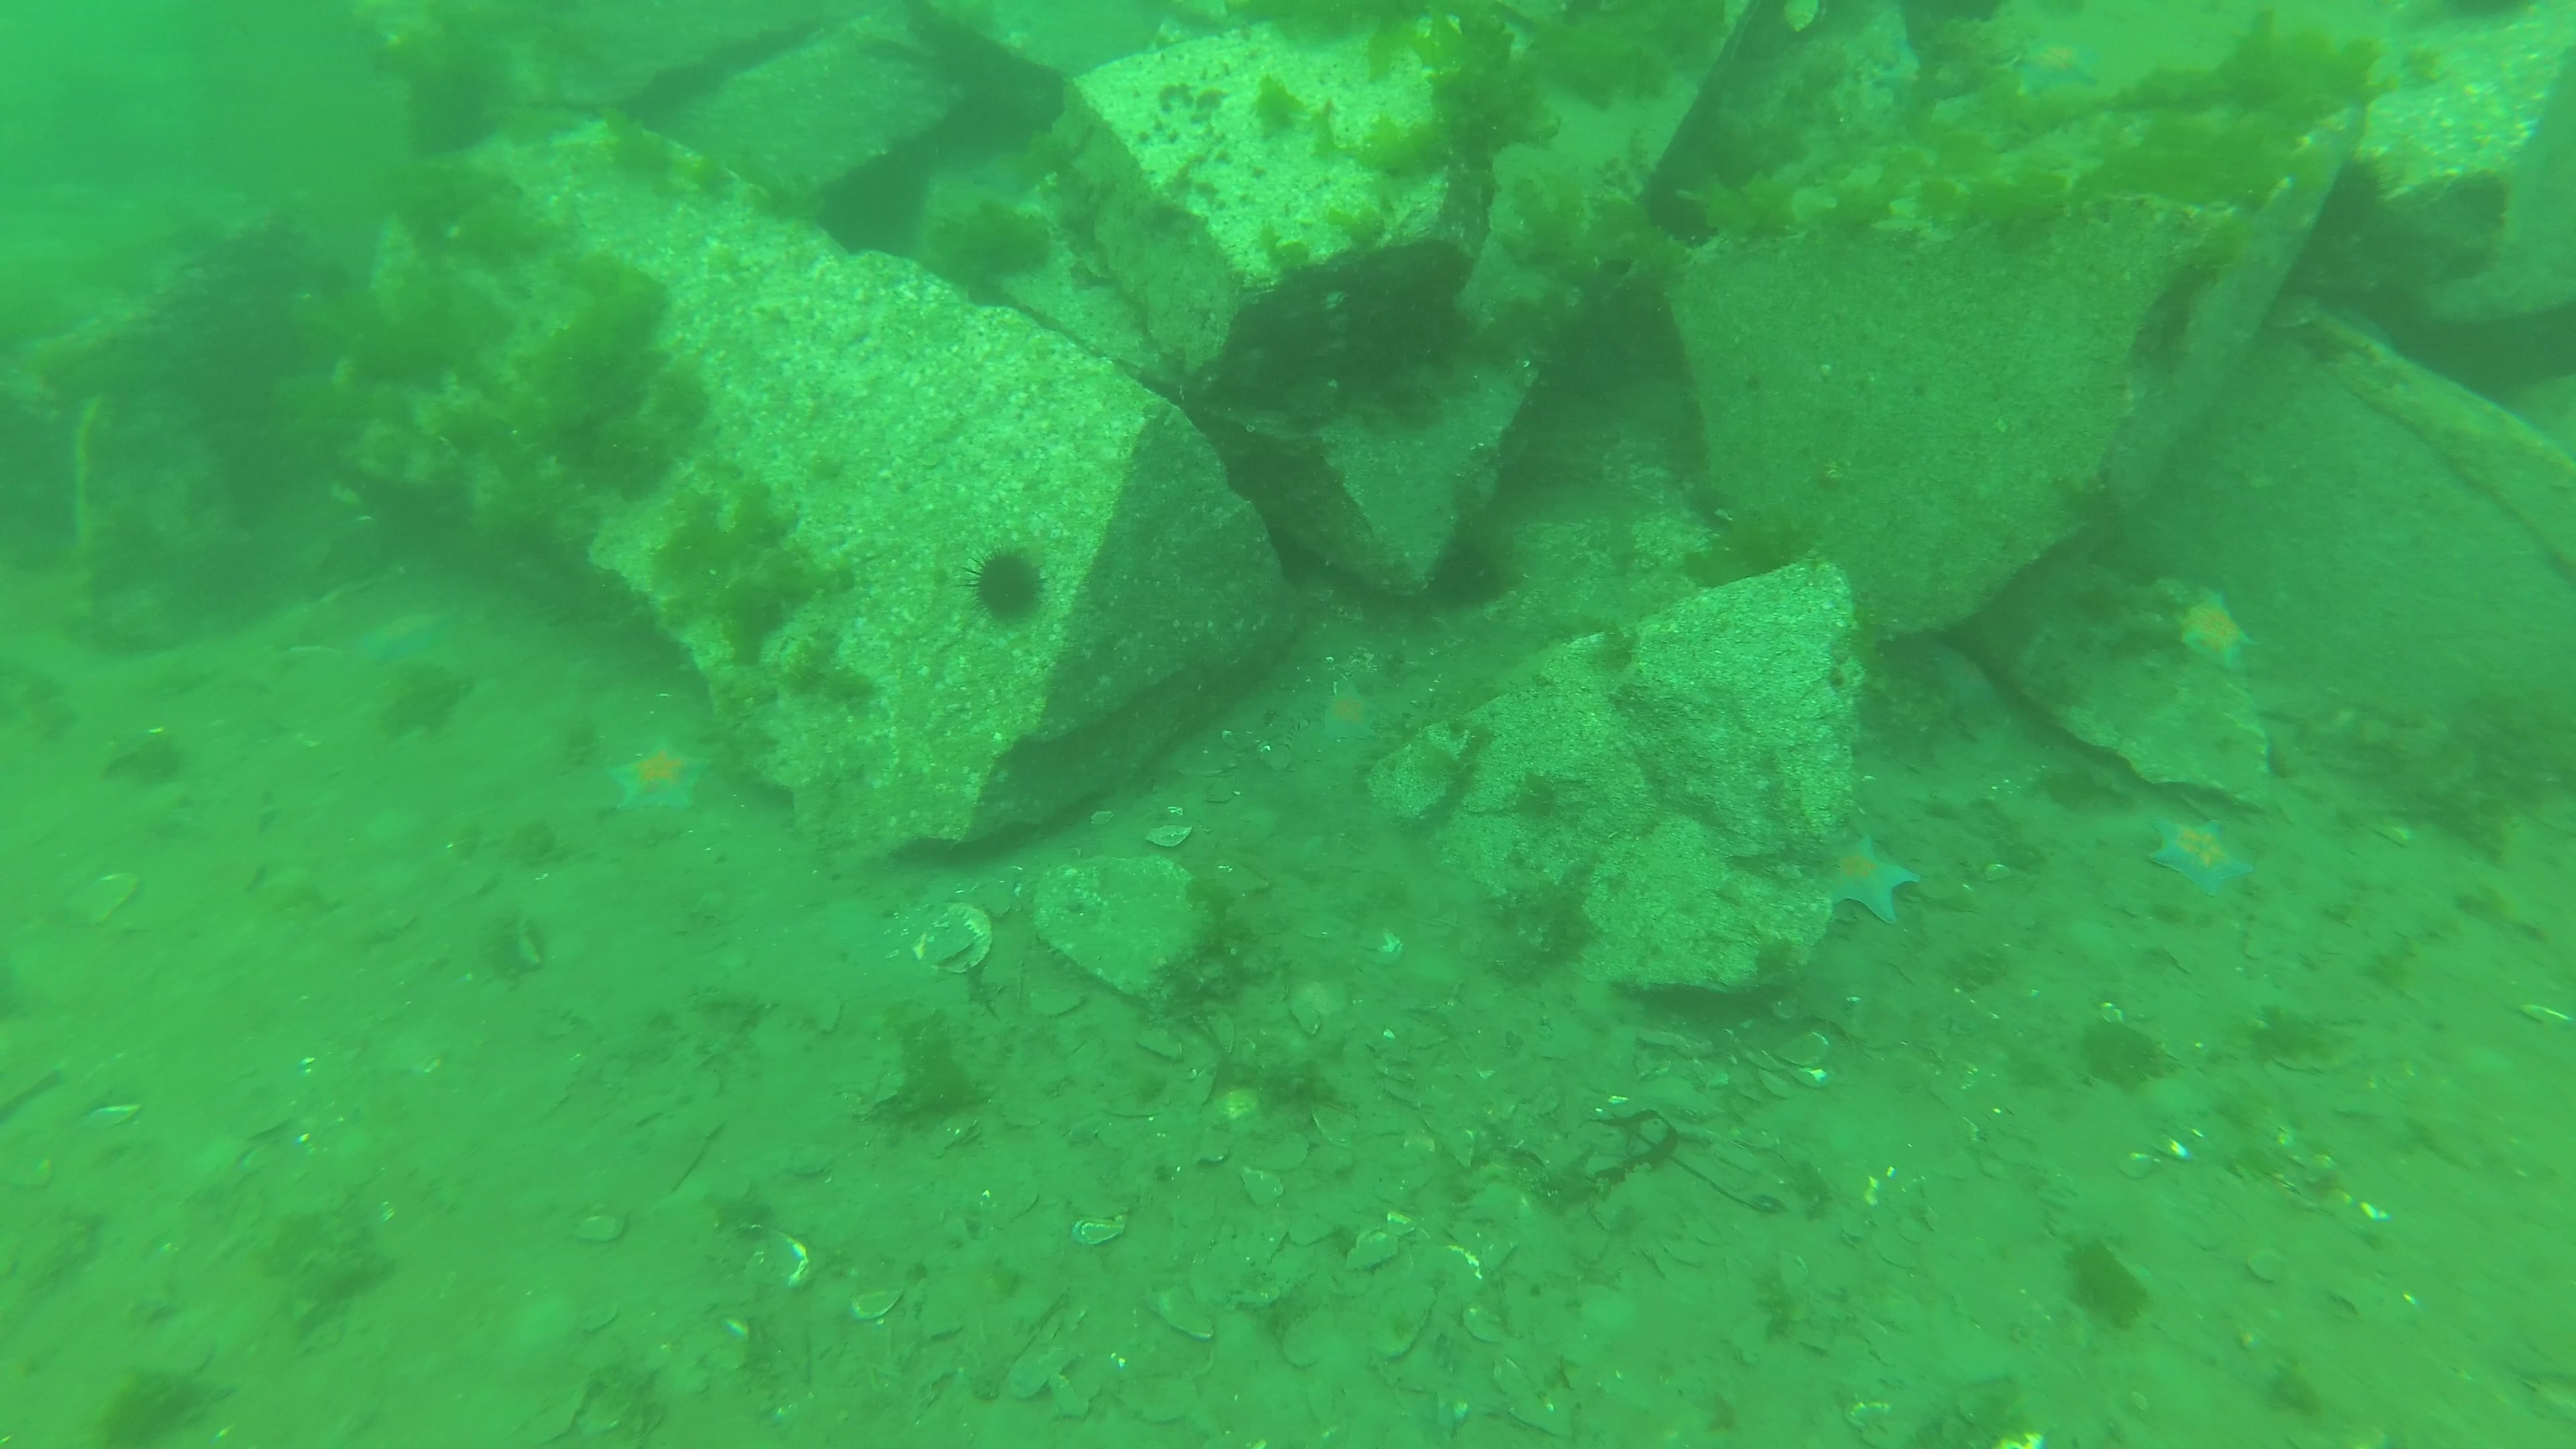echinus: (962, 543, 1046, 628)
scallop: (1776, 0, 1835, 39)
starfish: (2148, 805, 2259, 899), (602, 734, 713, 823), (1828, 830, 1923, 927), (1909, 632, 2006, 717), (2173, 582, 2261, 671), (350, 607, 464, 665), (2008, 35, 2109, 99), (1316, 683, 1384, 747)
